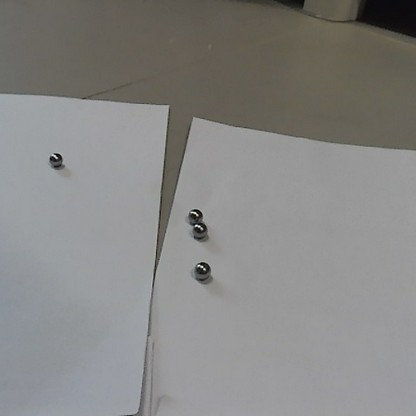ironball: (192, 258, 211, 280), (46, 150, 64, 170), (191, 221, 209, 239), (187, 206, 204, 225)
